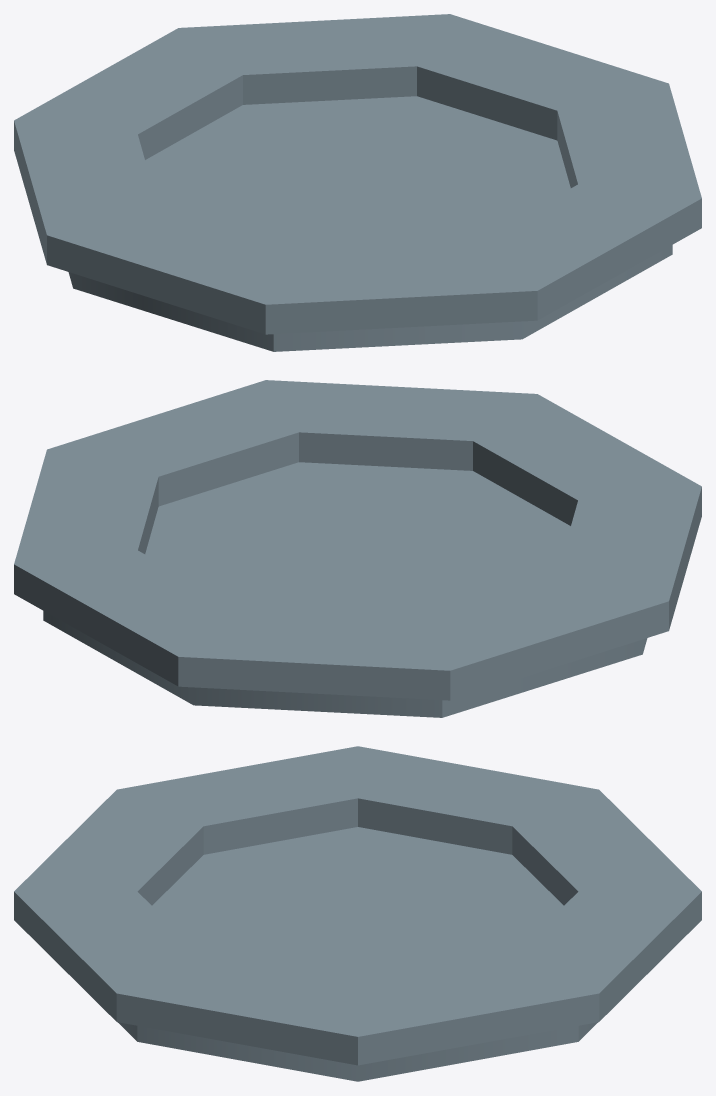
File: Plate1.fbx
The picture shows the model from 3 angles, top to bottom: view 1: azimuth 30°, elevation 25°; view 2: azimuth 150°, elevation 25°; view 3: azimuth 270°, elevation 25°; orthographic projection. The views are drawn at different scales.
Parts seen in each view (by area): view 1: geo_plate; view 2: geo_plate; view 3: geo_plate.
Part boxes in pixels (box(x1,y1,x2,y2)): geo_plate: box(14, 14, 701, 351); geo_plate: box(14, 380, 701, 717); geo_plate: box(14, 746, 701, 1081).
Size of the model in its own units: 0.4368 by 0.04 by 0.4368.
